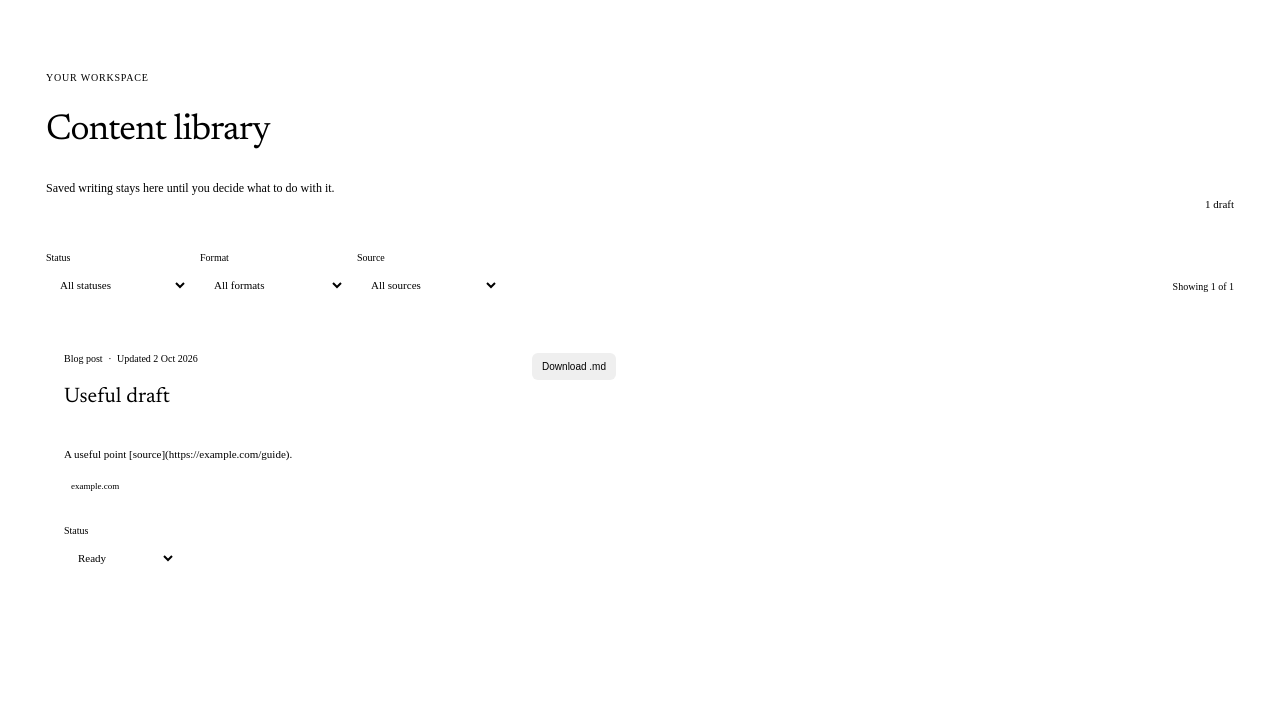
Test: ContentLibrary component › shows a save error without changing the selected status
Select "Ready" in the dropdown labelled "Status" below "Blog post": (120, 558) [64,542,176,574]
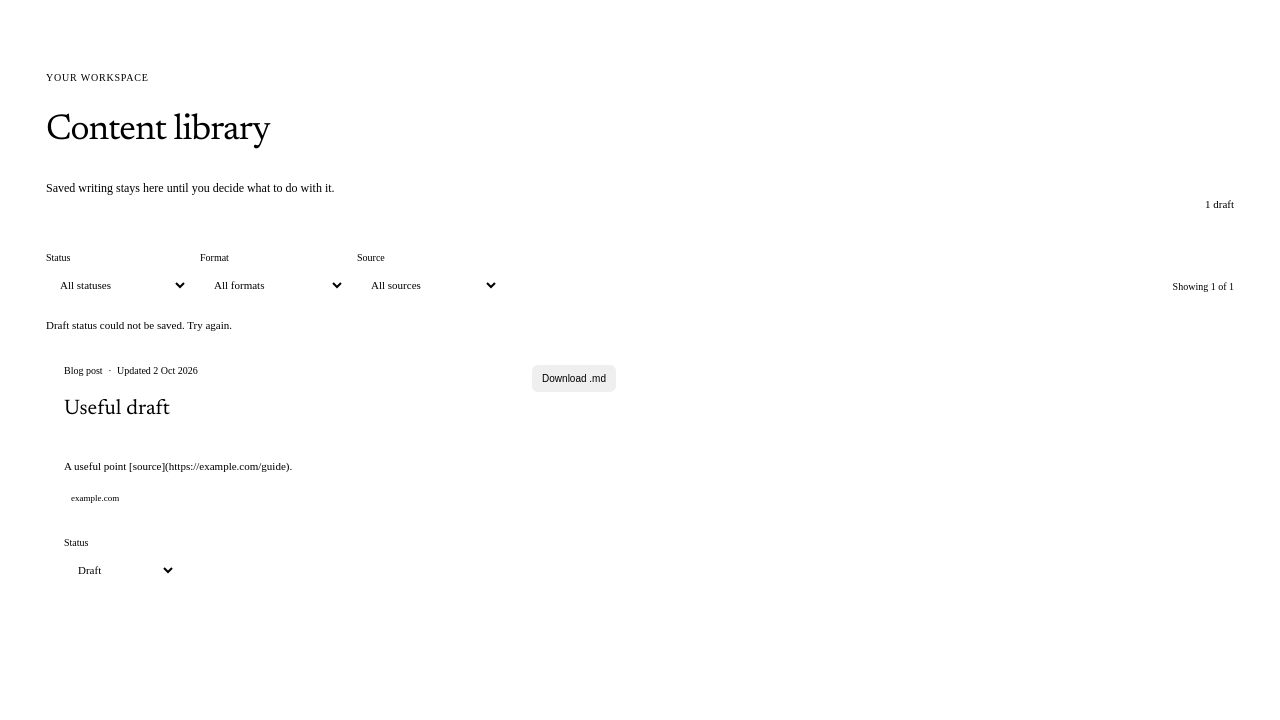
Check: the message "Draft status could not be saved. Try again." is shown, box [46,319,232,331]
